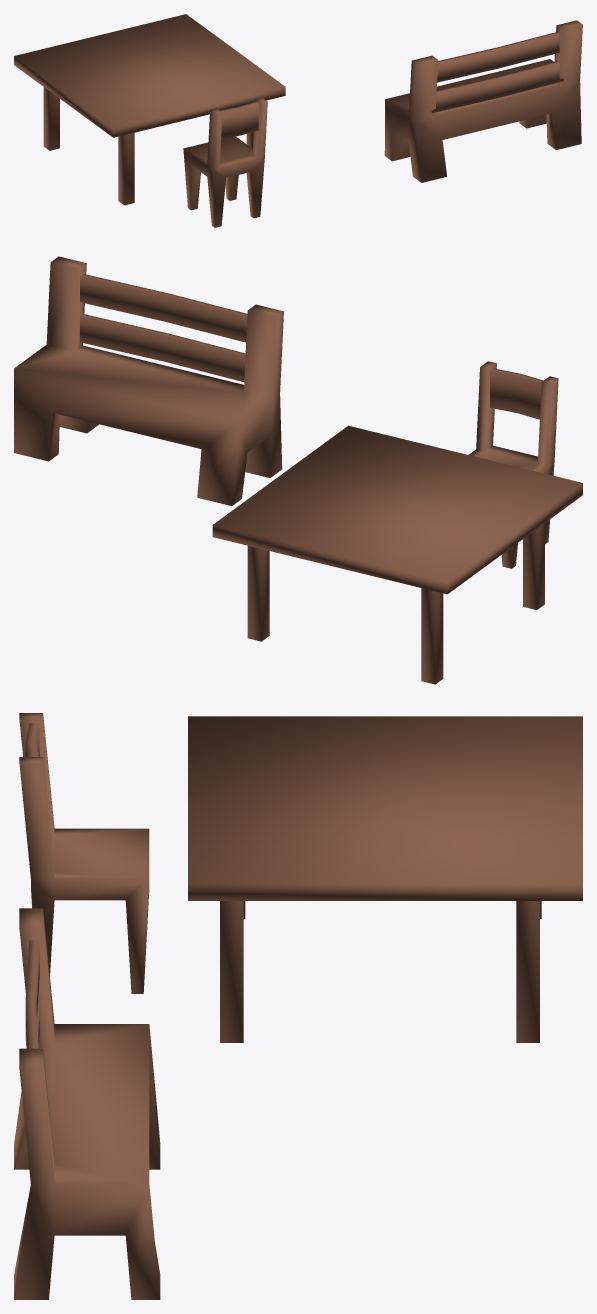
File: FurniturePack001.fbx
The picture shows the model from 3 angles, top to bottom: view 1: azimuth 30°, elevation 25°; view 2: azimuth 150°, elevation 25°; view 3: azimuth 270°, elevation 25°; orthographic projection. The views are drawn at different scales.
Parts seen in each view (by area): view 1: SquareTable, Bench, WoodenChair; view 2: SquareTable, Bench, WoodenChair; view 3: SquareTable, Bench, WoodenChair.
Part boxes in pixels (box(x1,y1,x2,y2)): SquareTable: box(14, 14, 285, 205); Bench: box(384, 20, 582, 182); WoodenChair: box(183, 97, 267, 227); SquareTable: box(212, 425, 582, 684); Bench: box(14, 256, 283, 505); WoodenChair: box(469, 361, 558, 568); SquareTable: box(188, 716, 582, 1042); Bench: box(14, 908, 160, 1299); WoodenChair: box(19, 713, 149, 993).
Bounding box in the file's own units: 4.96 × 1.32 × 2.88.
